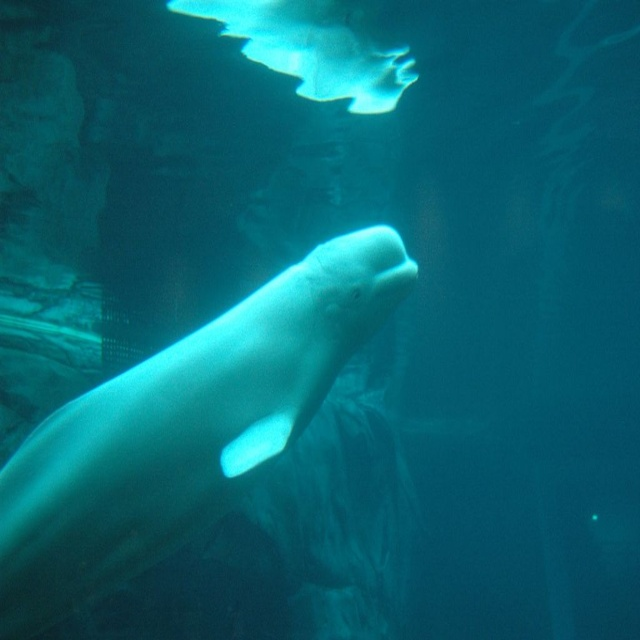Whale: (1, 225, 418, 640)
